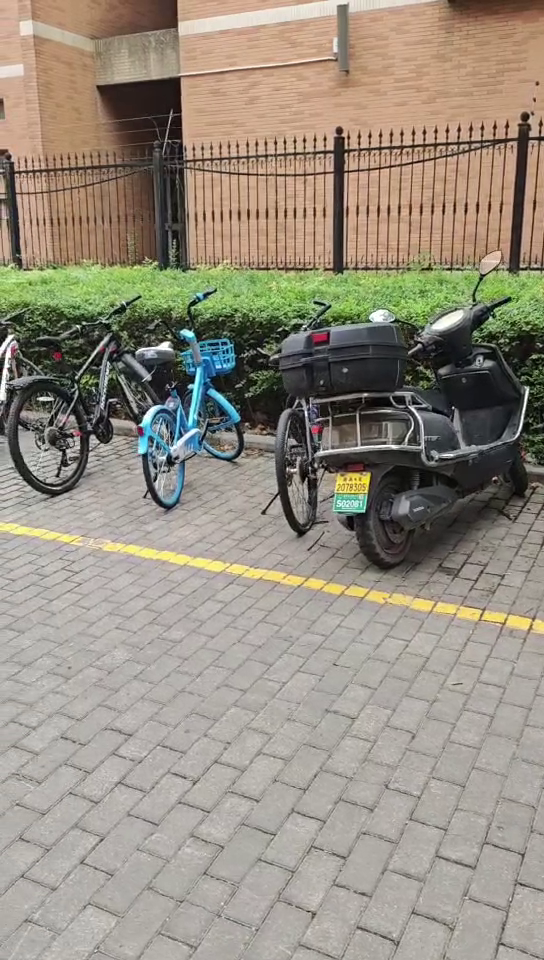others: (292, 296, 524, 567), (15, 300, 123, 493), (261, 307, 330, 545)
shared_bike_haluo: (140, 294, 240, 525)
